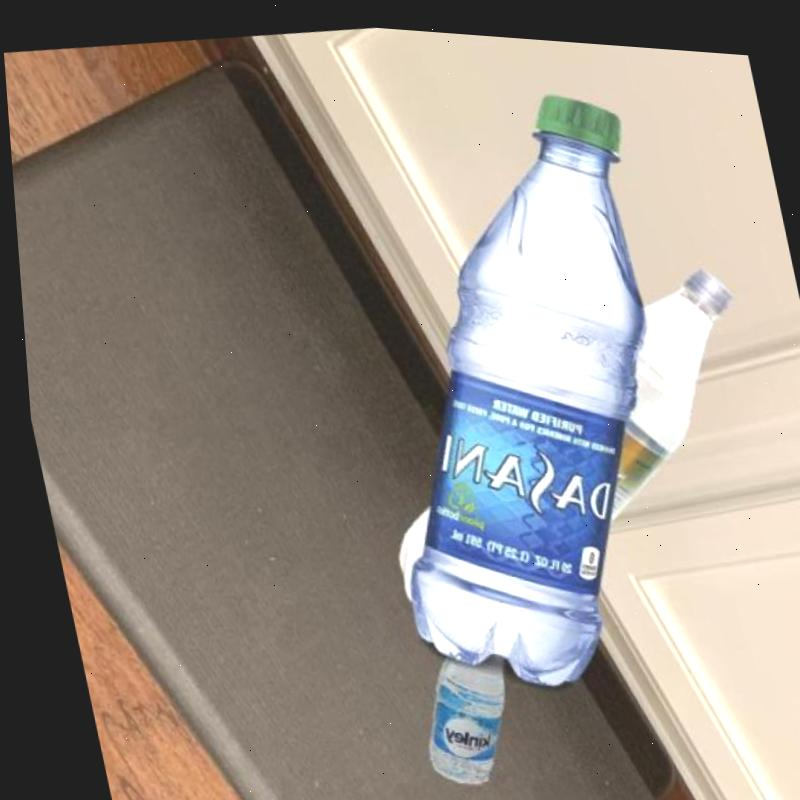botella: (301, 64, 730, 711), (332, 236, 786, 619), (397, 633, 514, 786)
